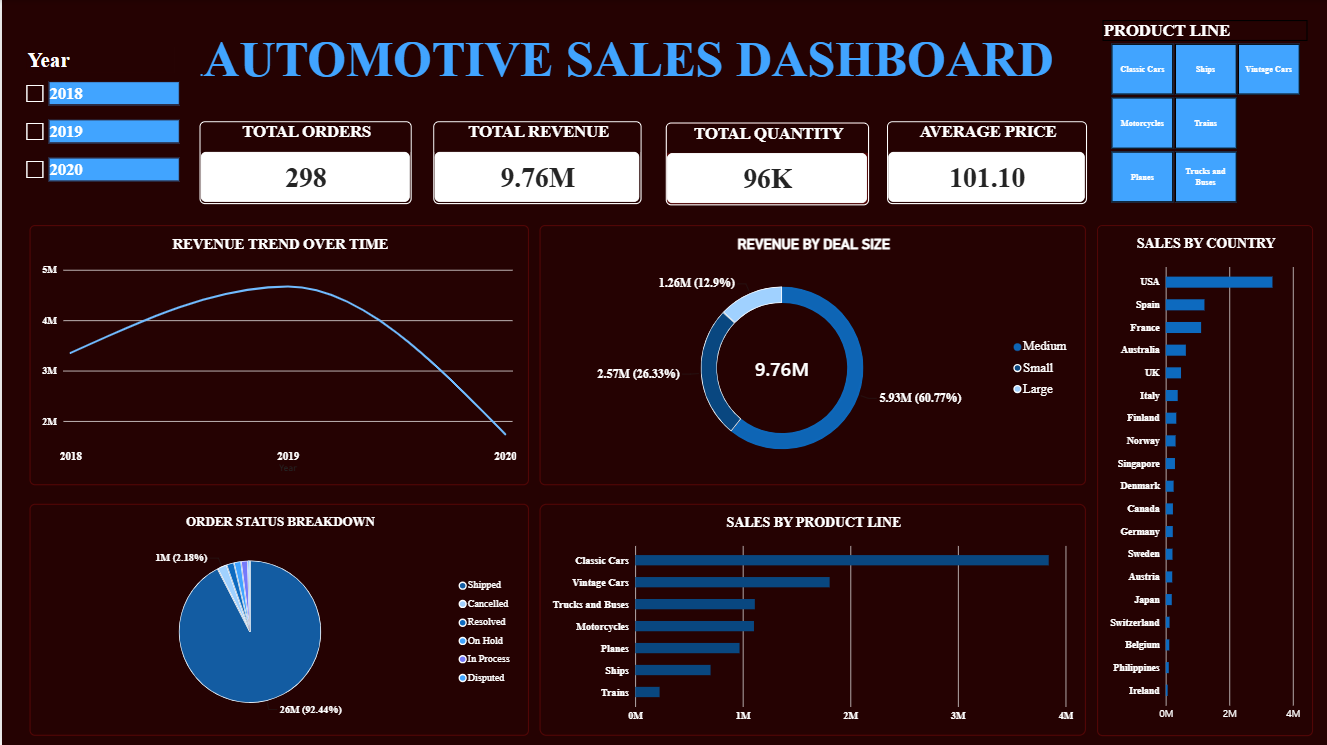

This screenshot's page, from the dashboard's own definition file:
{"tool":"powerbi","page":{"name":"Page 1","canvas":[1920,1080],"ordinal":0},"visuals":[{"type":"cardVisual","title":"TOTAL REVENUE","fields":{"Data":["Sum(Auto Sales data.SALES)"]},"box":[625,175,301.8,119.6],"z":0},{"type":"cardVisual","title":"TOTAL QUANTITY","fields":{"Data":["Sum(Auto Sales data.QUANTITYORDERED)"]},"box":[960.7,176.8,294.6,119.6],"z":1000},{"type":"cardVisual","title":"AVERAGE PRICE","fields":{"Data":["Avg(Auto Sales data.PRICEEACH)"]},"box":[1280.4,175,289.3,119.6],"z":2000},{"type":"clusteredBarChart","title":"SALES BY PRODUCT LINE","fields":{"Category":["Auto Sales data.PRODUCTLINE"],"Y":["Sum(Auto Sales data.SALES)"]},"box":[778.6,728.6,791.1,335.7],"z":3000},{"type":"cardVisual","title":"TOTAL ORDERS","fields":{"Data":["Count(Auto Sales data.ORDERNUMBER)"]},"box":[285.7,175,307.1,119.6],"z":4000},{"type":"lineChart","title":"REVENUE TREND OVER TIME","fields":{"Category":["Auto Sales data.ORDERDATE.Variation.Date Hierarchy.Year","Auto Sales data.ORDERDATE.Variation.Date Hierarchy.Quarter","Auto Sales data.ORDERDATE.Variation.Date Hierarchy.Month","Auto Sales data.ORDERDATE.Variation.Date Hierarchy.Day"],"Y":["Sum(Auto Sales data.SALES)"]},"box":[39.3,325,723.2,376.8],"z":5000},{"type":"donutChart","title":"REVENUE BY DEAL SIZE","fields":{"Category":["Auto Sales data.DEALSIZE"],"Y":["Sum(Auto Sales data.SALES)"]},"box":[778.6,325,791.1,376.8],"z":6000},{"type":"clusteredBarChart","title":"SALES BY COUNTRY","fields":{"Category":["Auto Sales data.COUNTRY"],"Y":["Sum(Auto Sales data.SALES)"]},"box":[1585.3,325.7,313.1,740.2],"z":7000},{"type":"pieChart","title":"ORDER STATUS BREAKDOWN","fields":{"Category":["Auto Sales data.STATUS"],"Y":["Sum(Auto Sales data.ORDERNUMBER)"]},"box":[39.3,728.6,723.2,335.7],"z":8000},{"type":"textbox","box":[217.2,45.2,1382.6,74.2],"z":9000},{"type":"slicer","fields":{"Values":["Auto Sales data.ORDERDATE.Variation.Date Hierarchy.Year"]},"box":[27.3,67.3,230.4,217.9],"z":10000},{"type":"slicer","fields":{"Values":["Auto Sales data.PRODUCTLINE"]},"box":[1585.7,28.6,312.5,266.1],"z":11000},{"type":"actionButton","box":[0,0,100,40],"z":11001}]}

Visuals, with their boxes in screenshot pixels (x1, y1, x2, y2), scaled from the page's 1920x1080 canvas onto the 1327x745 screenshot:
"TOTAL REVENUE" cardVisual: {"left": 432, "top": 121, "right": 641, "bottom": 203}
"TOTAL QUANTITY" cardVisual: {"left": 664, "top": 122, "right": 868, "bottom": 204}
"AVERAGE PRICE" cardVisual: {"left": 885, "top": 121, "right": 1085, "bottom": 203}
"SALES BY PRODUCT LINE" clusteredBarChart: {"left": 538, "top": 503, "right": 1085, "bottom": 734}
"TOTAL ORDERS" cardVisual: {"left": 197, "top": 121, "right": 410, "bottom": 203}
"REVENUE TREND OVER TIME" lineChart: {"left": 27, "top": 224, "right": 527, "bottom": 484}
"REVENUE BY DEAL SIZE" donutChart: {"left": 538, "top": 224, "right": 1085, "bottom": 484}
"SALES BY COUNTRY" clusteredBarChart: {"left": 1096, "top": 225, "right": 1312, "bottom": 735}
"ORDER STATUS BREAKDOWN" pieChart: {"left": 27, "top": 503, "right": 527, "bottom": 734}
textbox: {"left": 150, "top": 31, "right": 1106, "bottom": 82}
slicer - Auto Sales data.ORDERDATE.Variation.Date Hierarchy.Year: {"left": 19, "top": 46, "right": 178, "bottom": 197}
slicer - Auto Sales data.PRODUCTLINE: {"left": 1096, "top": 20, "right": 1312, "bottom": 203}
actionButton: {"left": 0, "top": 0, "right": 69, "bottom": 28}
